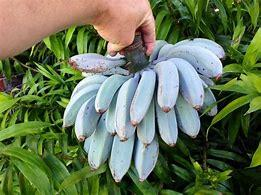banana: (69, 35, 226, 166)
